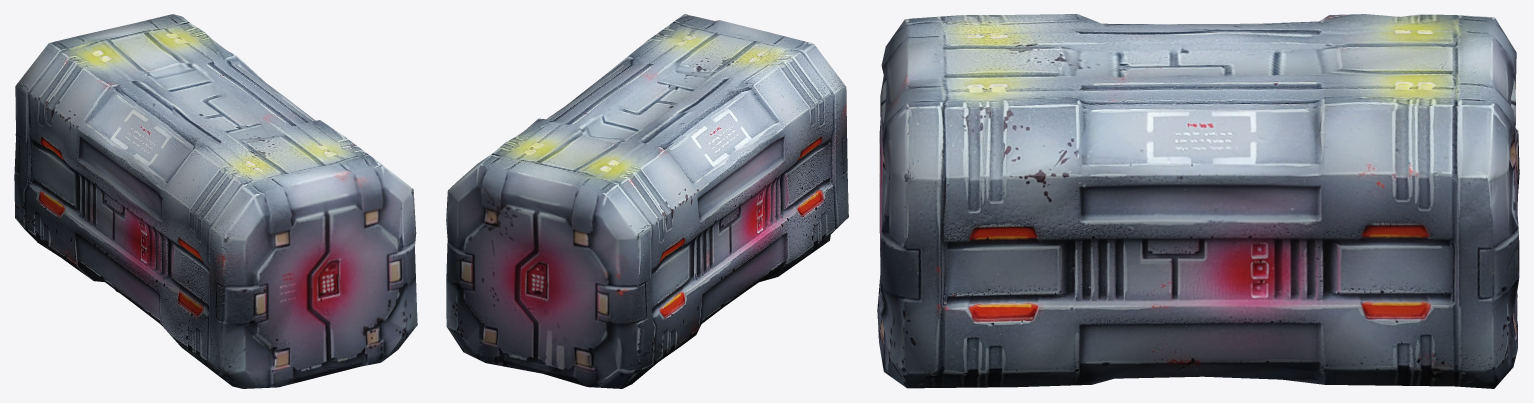
The model's file is cargo-size-2.glb.
3 renders of one model, left to right at view 1: azimuth 30°, elevation 25°; view 2: azimuth 150°, elevation 25°; view 3: azimuth 270°, elevation 25°, orthographic. The views are drawn at different scales.
Visible parts, largest first — view 1: Tech_container_grey; view 2: Tech_container_grey; view 3: Tech_container_grey.
Part boxes in pixels (<box>): Tech_container_grey: <box>14,14,417,388</box>; Tech_container_grey: <box>446,14,848,388</box>; Tech_container_grey: <box>877,14,1519,388</box>.
Size of the model in its own units: 2.38 by 2.22 by 4.65.
Materials: 1 (1 with a texture image).
